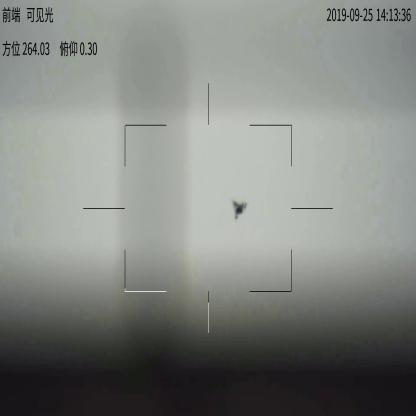uav: (230, 199, 248, 221)
